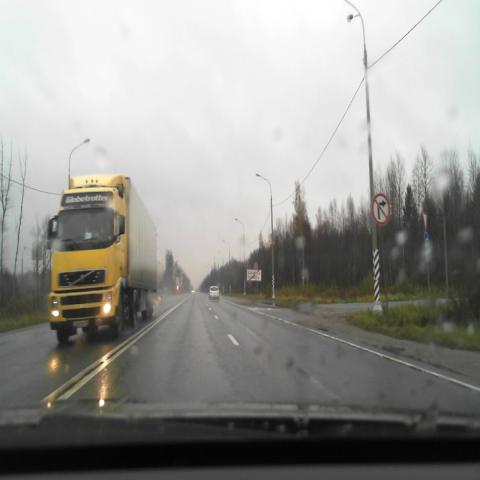3_18: (372, 192, 390, 224)
